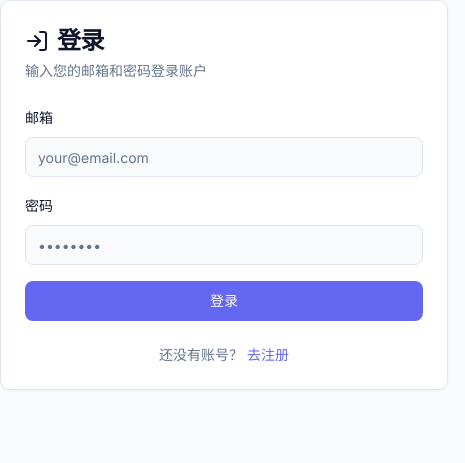
LoginForm › 表单验证 › 应该验证密码长度
This screenshot has width=465, height=463.
Step 1. Type "1234567" into the password field labelled "密码" → (224, 245), box [25,225,423,265]
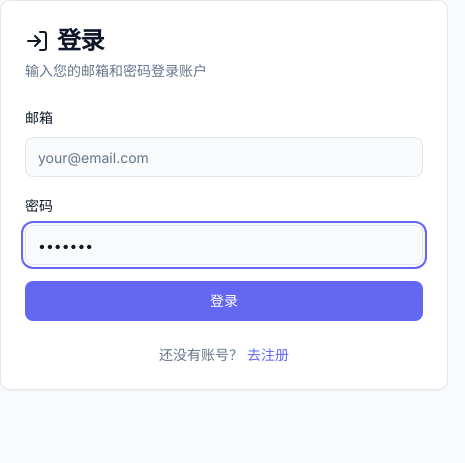
Step 2. Click the button "登录" → (224, 301), box [25,281,423,321]
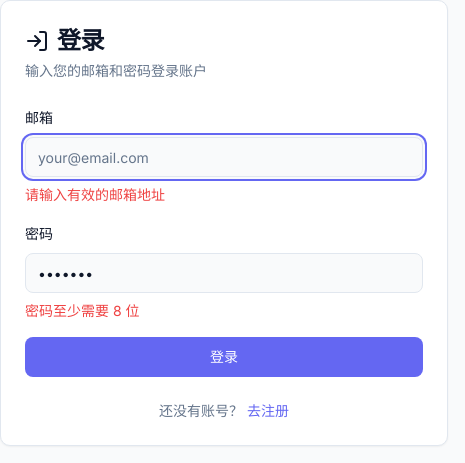
Result: the text "密码至少需要 8 位" is shown at [25,302,140,319]
